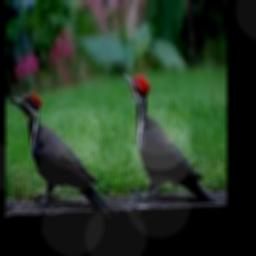Woodpecker: (9, 90, 112, 217), (122, 72, 213, 201)
